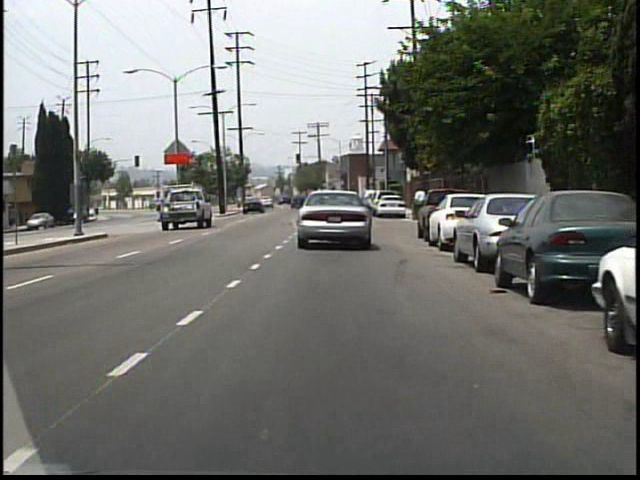person: (412, 183, 429, 225)
